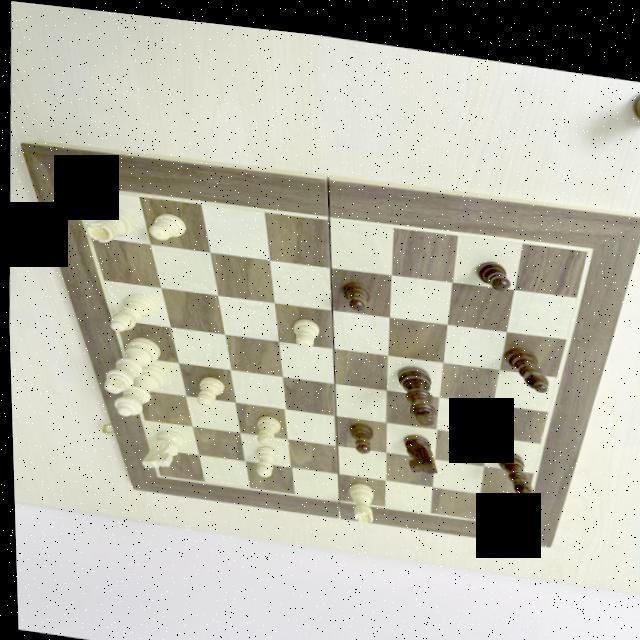chess-table-corners: (62, 179, 88, 195), (578, 228, 600, 246), (147, 466, 166, 479), (513, 508, 528, 521)
